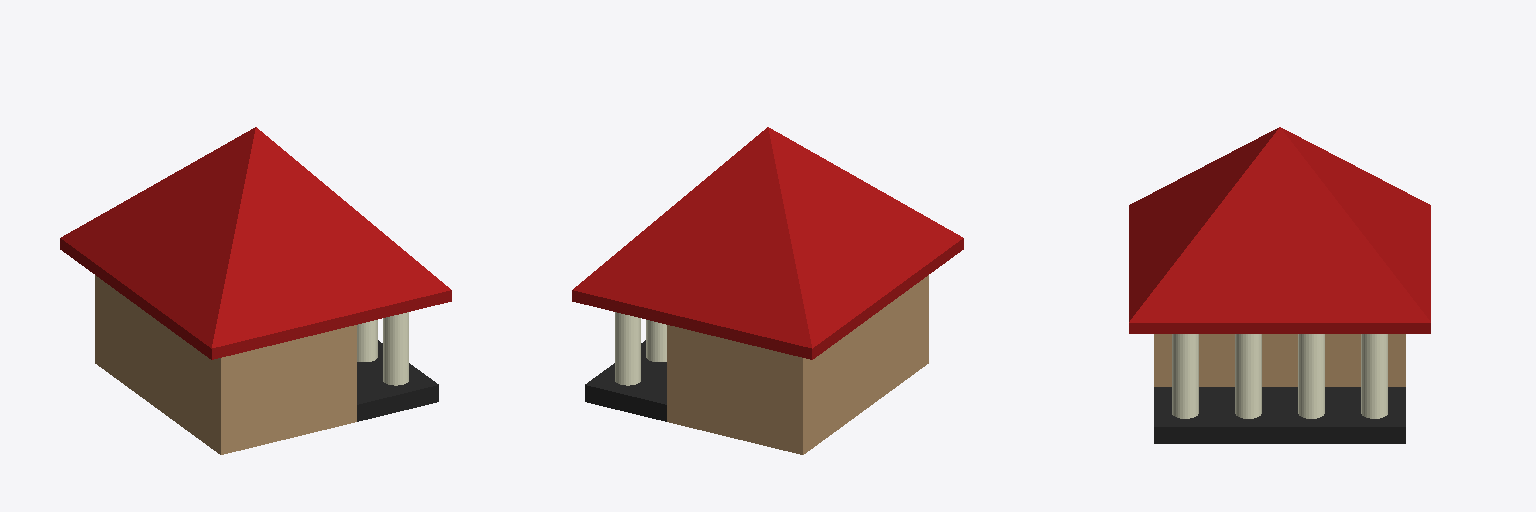
File: BSchool.obj
3 renders of one model, left to right at view 1: azimuth 30°, elevation 25°; view 2: azimuth 150°, elevation 25°; view 3: azimuth 270°, elevation 25°, orthographic.
Parts seen in each view (by area): view 1: School; view 2: School; view 3: School.
Boxes of the visible parts, <box> form: School: <box>60,127,451,454</box>; School: <box>572,127,963,454</box>; School: <box>1129,127,1430,443</box>.
Size of the model in its own units: 4.4 by 4.52 by 4.8.